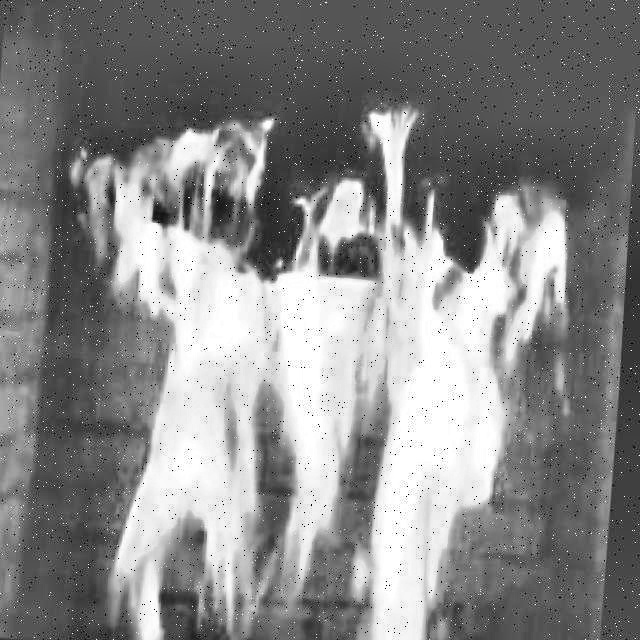Fire: (33, 73, 593, 640)
